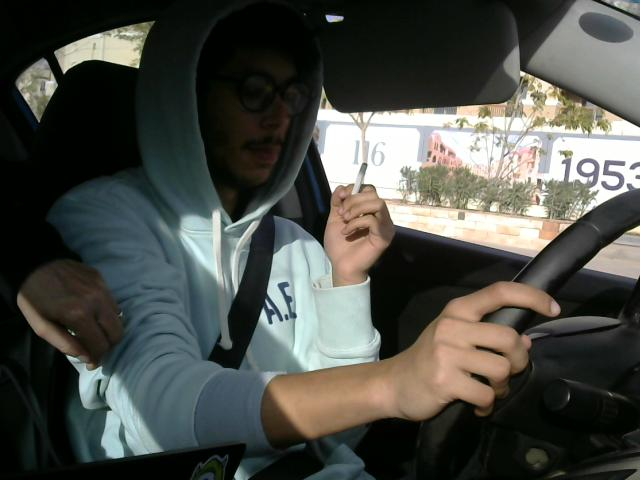Smoking: (340, 160, 374, 227)
